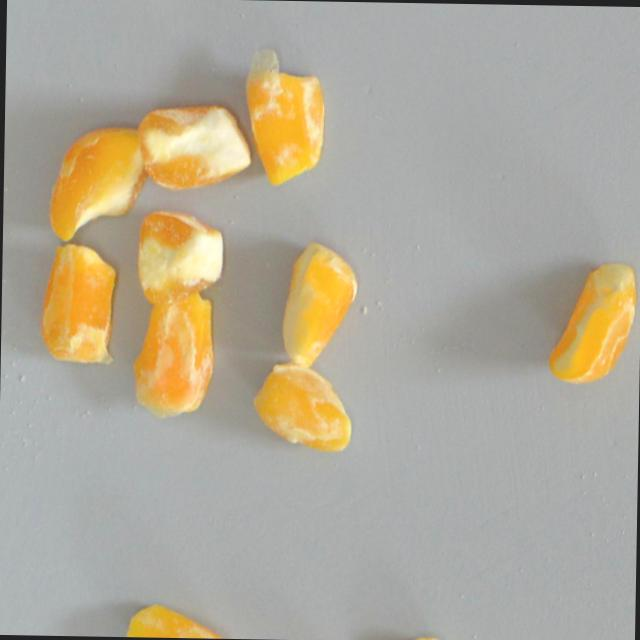dañado: (539, 250, 640, 391), (44, 122, 153, 246), (240, 43, 328, 193), (127, 287, 218, 422), (135, 99, 253, 196), (277, 235, 361, 370), (36, 238, 120, 370), (246, 359, 354, 458), (132, 207, 227, 309), (118, 598, 241, 639), (369, 630, 452, 640)
